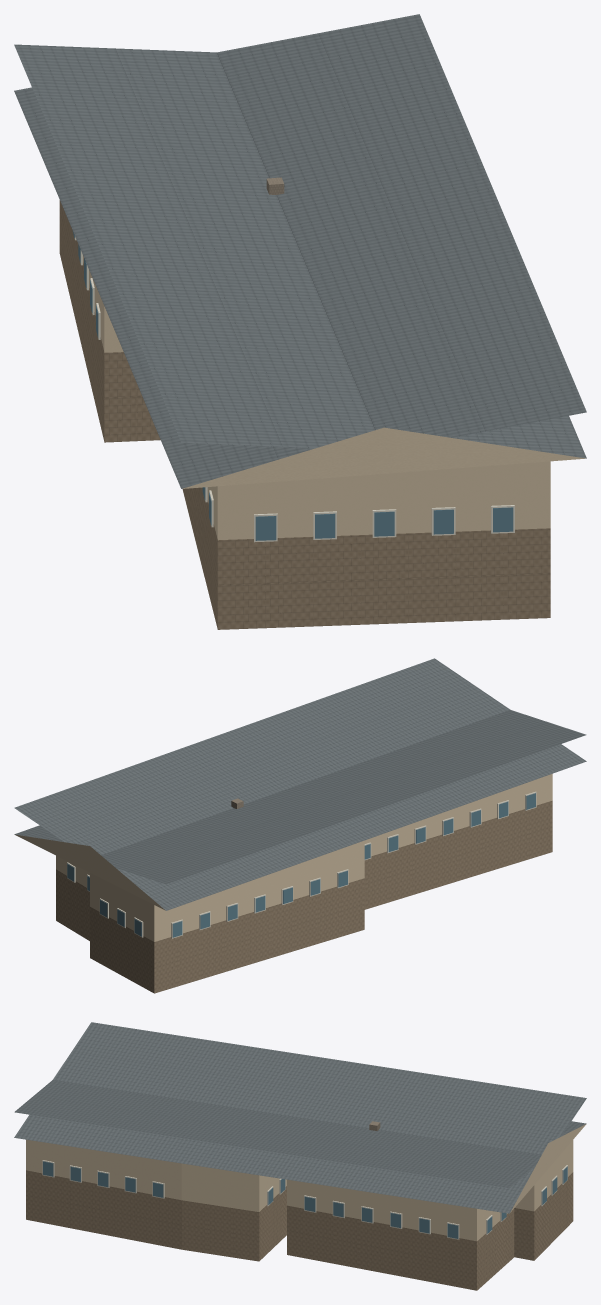
Rendered from core_0031.gltf.
The picture shows the model from 3 angles, top to bottom: view 1: azimuth 30°, elevation 25°; view 2: azimuth 150°, elevation 25°; view 3: azimuth 270°, elevation 25°; orthographic projection. The views are drawn at different scales.
Visible parts, largest first — view 1: core_0031; view 2: core_0031; view 3: core_0031.
Part boxes in pixels (x1,y1,x2,y2): core_0031: (14, 14, 586, 629); core_0031: (14, 658, 586, 993); core_0031: (14, 1022, 586, 1290).
Size of the model in its own units: 34.94 by 11.2 by 50.93.
6 materials, 6 textured.
